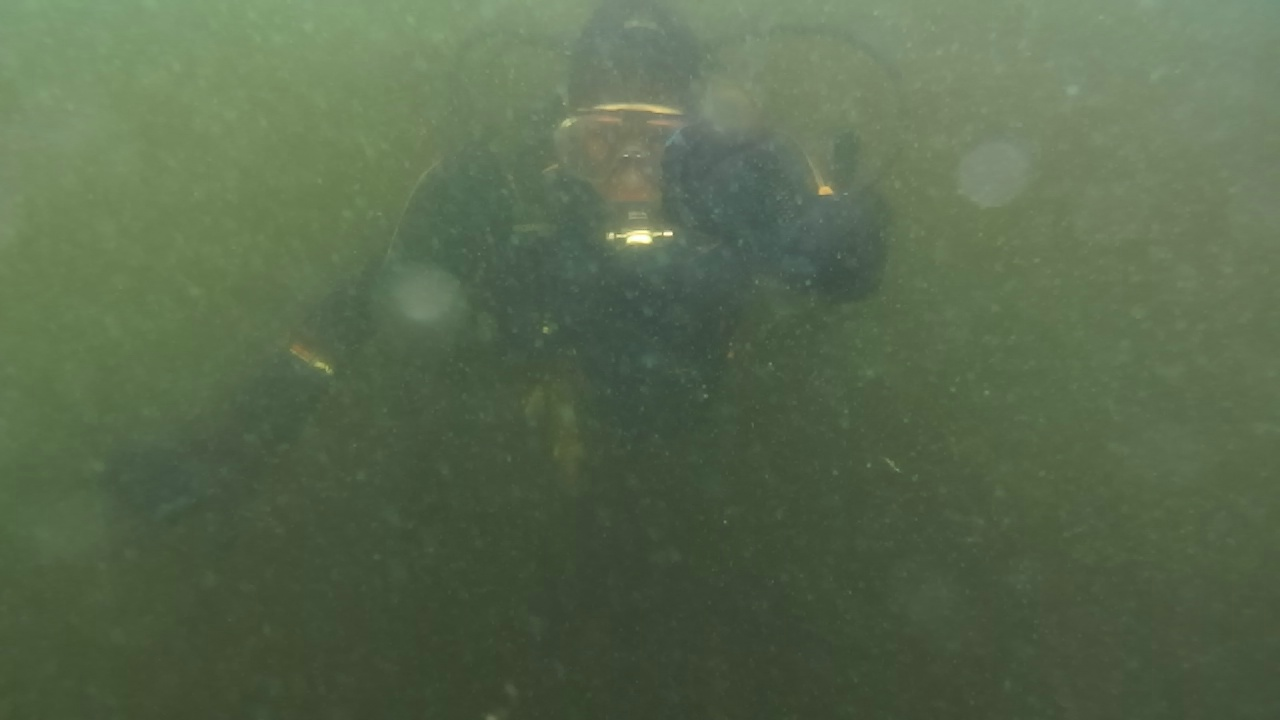Diver: (92, 10, 894, 538)
Hand: (104, 404, 276, 530)
Head: (518, 22, 710, 260)
